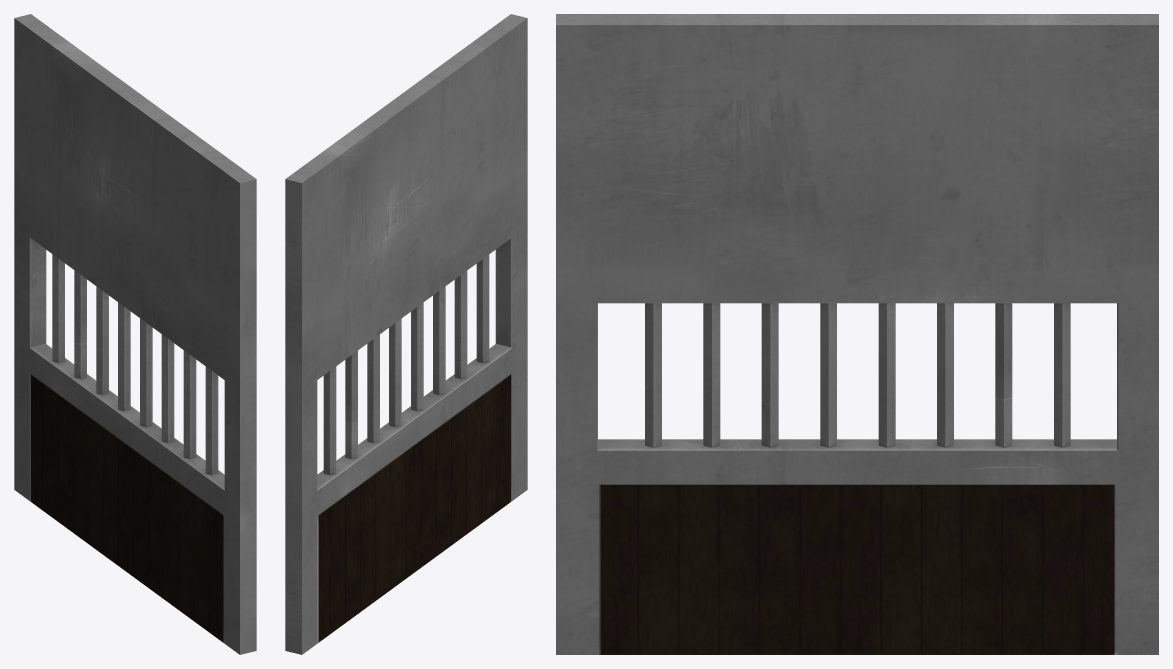
The model's file is StableBox_Wall3_LP.glb.
The picture shows the model from 3 angles, left to right: view 1: azimuth 30°, elevation 25°; view 2: azimuth 150°, elevation 25°; view 3: azimuth 270°, elevation 25°; orthographic projection. The views are drawn at different scales.
Parts seen in each view (by area): view 1: StableBox_Wall3_LP; view 2: StableBox_Wall3_LP; view 3: StableBox_Wall3_LP.
Boxes of the visible parts, left/top/right/bottom form: StableBox_Wall3_LP: left=14, top=14, right=256, bottom=654; StableBox_Wall3_LP: left=285, top=14, right=527, bottom=654; StableBox_Wall3_LP: left=556, top=14, right=1158, bottom=654.
Size of the model in its own units: 0.1542 by 4.17 by 3.61.
Materials: 2 (2 with a texture image).
